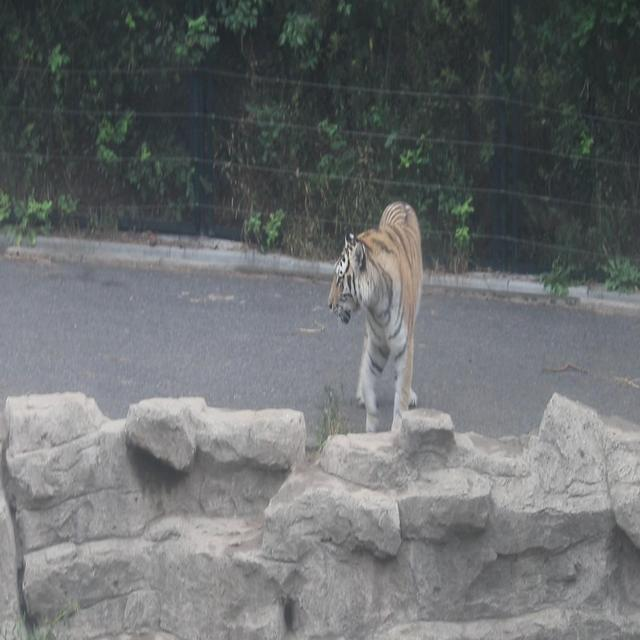tiger: (326, 199, 423, 433)
